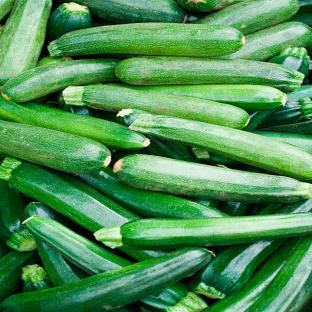Zucchini: (0, 248, 211, 311), (129, 114, 311, 179), (0, 158, 139, 231), (114, 155, 311, 202), (63, 85, 249, 128), (95, 213, 311, 249), (0, 97, 148, 149), (79, 168, 226, 218), (204, 238, 302, 311), (48, 23, 244, 56), (116, 57, 304, 91), (27, 217, 132, 274), (0, 121, 111, 173), (190, 240, 285, 297), (2, 59, 118, 102), (247, 236, 311, 311), (108, 84, 286, 110), (195, 0, 298, 34), (222, 22, 311, 61), (0, 180, 36, 251), (35, 238, 87, 286), (0, 251, 36, 301), (47, 3, 91, 41), (137, 136, 197, 162), (259, 98, 311, 128), (255, 132, 311, 152), (269, 48, 310, 75), (22, 265, 52, 291), (261, 121, 311, 135), (206, 150, 244, 168), (244, 110, 274, 131), (58, 101, 96, 116), (217, 202, 249, 216), (186, 197, 220, 208), (288, 85, 311, 101), (37, 56, 72, 66), (288, 13, 311, 26), (192, 147, 210, 161), (186, 11, 206, 23), (0, 241, 11, 257)
